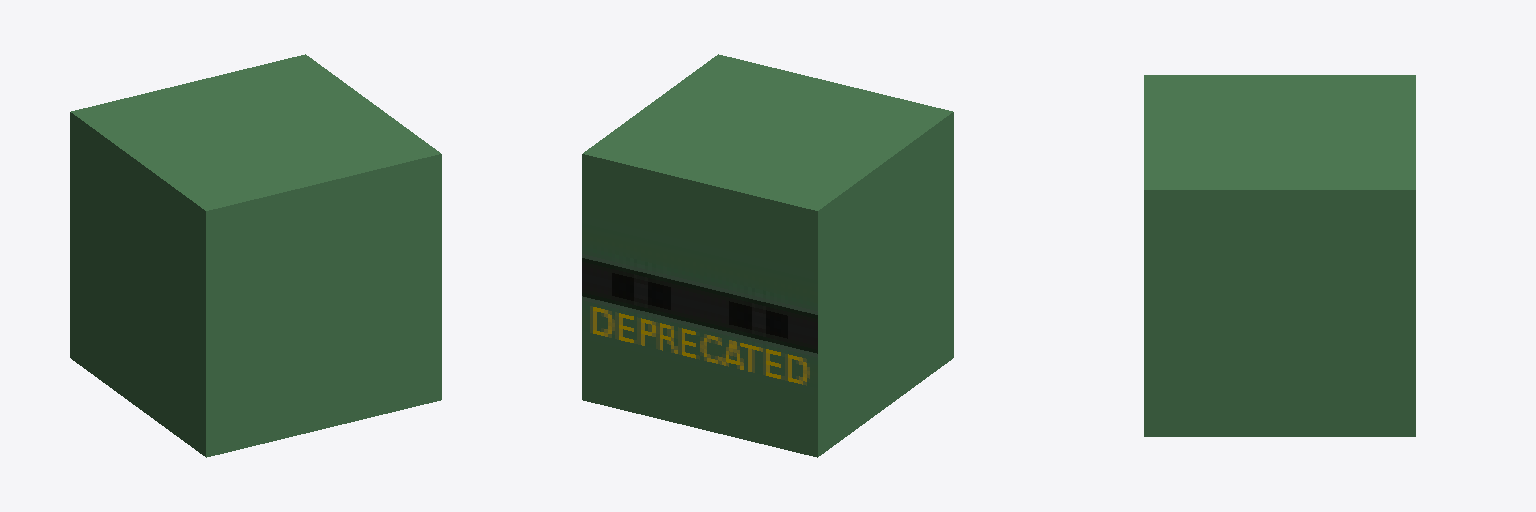
3 renders of one model, left to right at view 1: azimuth 30°, elevation 25°; view 2: azimuth 150°, elevation 25°; view 3: azimuth 270°, elevation 25°, orthographic.
Visible parts, largest first — view 1: generalCube, off; view 2: generalCube, off; view 3: generalCube, off.
Part boxes in pixels (left/top/right/bottom): generalCube: left=75, top=57, right=441, bottom=457; off: left=70, top=54, right=310, bottom=363; generalCube: left=589, top=54, right=953, bottom=453; off: left=582, top=148, right=825, bottom=457; generalCube: left=1144, top=75, right=1406, bottom=436; off: left=1399, top=75, right=1415, bottom=436.
Bounding box in the file's own units: 1 × 1 × 1.
2 materials, 1 textured.